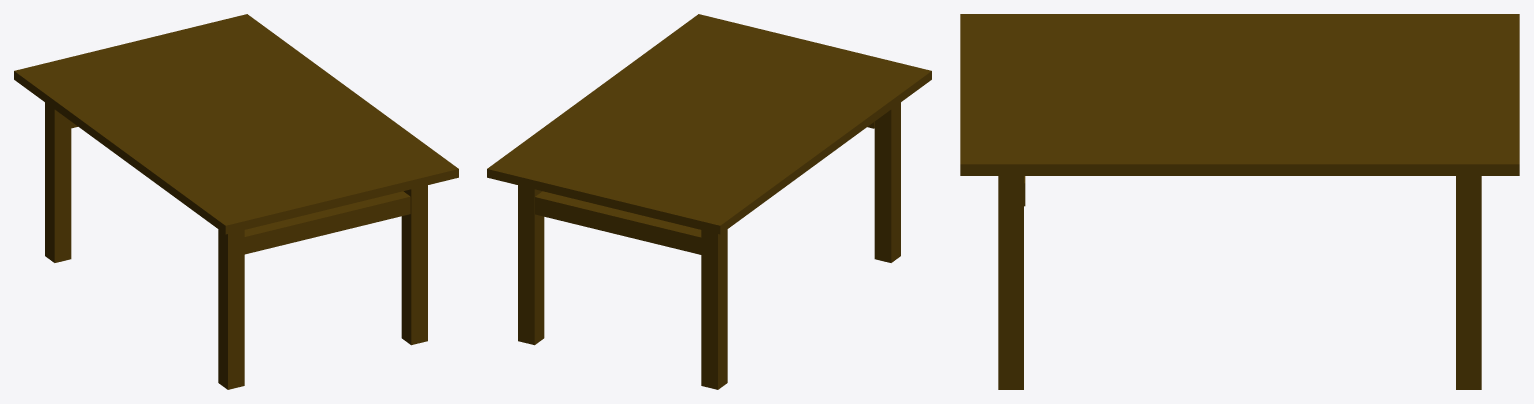
Rendered from table.fbx.
3 renders of one model, left to right at view 1: azimuth 30°, elevation 25°; view 2: azimuth 150°, elevation 25°; view 3: azimuth 270°, elevation 25°, orthographic. The views are drawn at different scales.
Visible parts, largest first — view 1: board, leg_1, balk_3, leg_3, leg_2; view 2: board, blak_1, leg_3, leg_1, leg_4; view 3: board, leg_2, leg_4.
Part boxes in pixels (x1=…): board: x1=14, y1=14, x2=458, y2=234; leg_1: x1=218, y1=229, x2=244, y2=389; balk_3: x1=244, y1=191, x2=410, y2=254; leg_3: x1=45, y1=102, x2=71, y2=262; leg_2: x1=401, y1=185, x2=427, y2=345; board: x1=487, y1=14, x2=931, y2=234; blak_1: x1=535, y1=191, x2=701, y2=254; leg_3: x1=701, y1=229, x2=727, y2=389; leg_1: x1=874, y1=102, x2=900, y2=262; leg_4: x1=518, y1=185, x2=544, y2=345; board: x1=960, y1=14, x2=1519, y2=175; leg_2: x1=998, y1=176, x2=1023, y2=389; leg_4: x1=1456, y1=176, x2=1481, y2=389.
Size of the model in its own units: 140 by 103 by 220.
